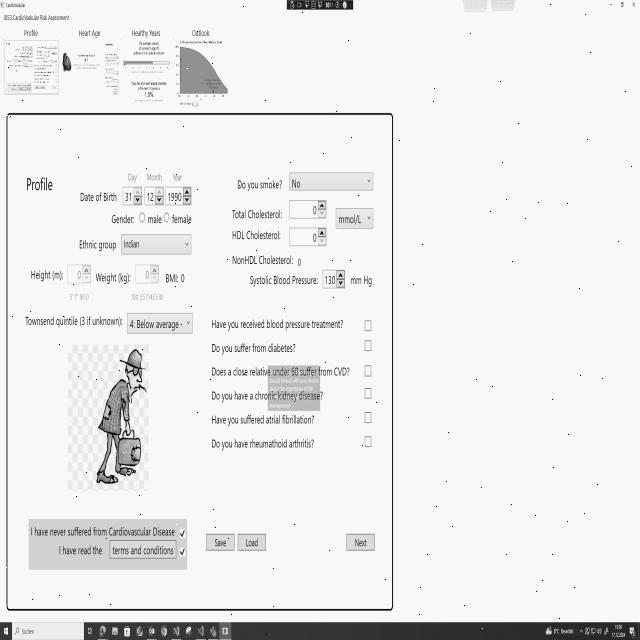button: (107, 540, 177, 566), (342, 528, 378, 555), (237, 527, 269, 556), (204, 528, 236, 556), (614, 0, 628, 13), (628, 0, 640, 13), (604, 0, 614, 11)
checkbox: (363, 337, 374, 354), (362, 317, 373, 333), (363, 385, 372, 403), (363, 434, 373, 450), (364, 364, 374, 379), (364, 411, 373, 427), (179, 544, 187, 560), (178, 526, 187, 540)
dropdownMenu: (287, 166, 377, 193), (120, 230, 195, 258), (126, 308, 195, 336), (334, 203, 375, 234)
input: (12, 623, 84, 640)
label: (208, 307, 348, 332), (208, 362, 357, 380), (28, 520, 176, 538), (207, 432, 318, 452), (22, 311, 124, 330), (208, 412, 323, 428), (208, 390, 332, 404), (209, 339, 299, 356), (246, 269, 320, 288), (230, 250, 308, 268), (231, 175, 286, 196), (229, 203, 285, 223), (230, 227, 285, 246), (80, 183, 119, 209), (56, 540, 105, 560), (24, 263, 63, 287), (94, 267, 134, 288), (24, 171, 58, 195), (74, 236, 118, 254), (2, 12, 72, 23), (129, 290, 168, 307), (348, 266, 377, 288), (163, 264, 190, 286), (109, 213, 136, 230), (127, 27, 165, 39), (171, 209, 195, 227), (76, 26, 104, 40), (186, 24, 214, 38), (64, 290, 92, 304), (143, 166, 165, 183), (20, 24, 42, 38), (124, 168, 139, 184), (146, 214, 162, 228), (172, 167, 184, 183)
radio: (138, 210, 146, 224), (163, 210, 170, 223)
upDown: (288, 195, 328, 221), (288, 225, 328, 248), (322, 265, 346, 292), (135, 261, 160, 286), (66, 262, 92, 286), (165, 185, 193, 206), (121, 185, 143, 206), (144, 184, 164, 207)
